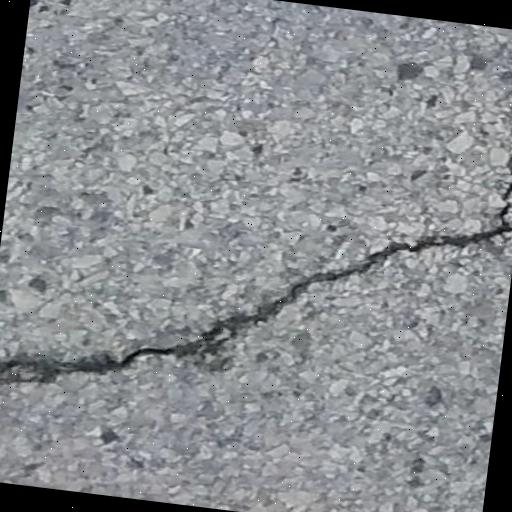spalling: (0, 220, 512, 391)
